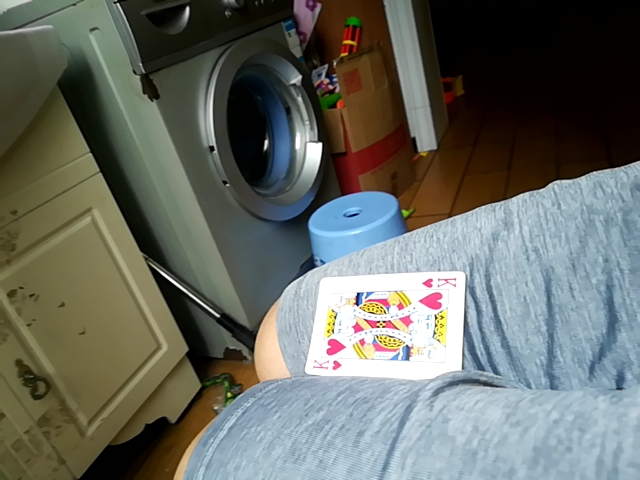hx k: (300, 268, 464, 384)
